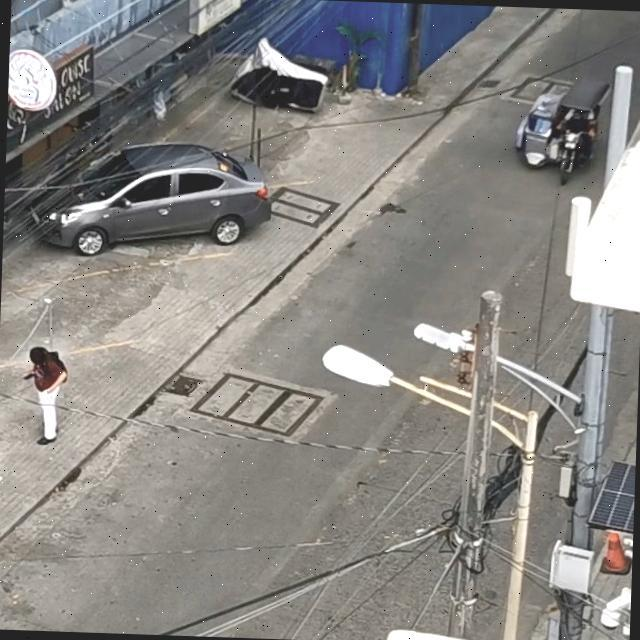Tricycle: (512, 76, 604, 185)
